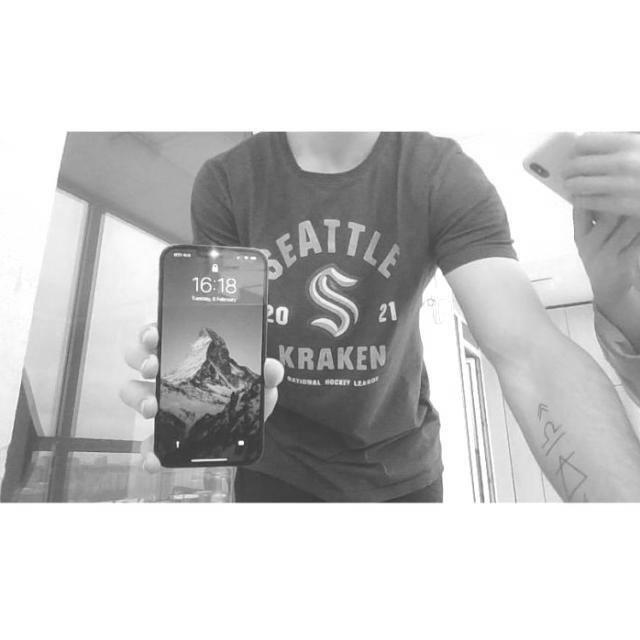fake: (143, 242, 280, 469)
